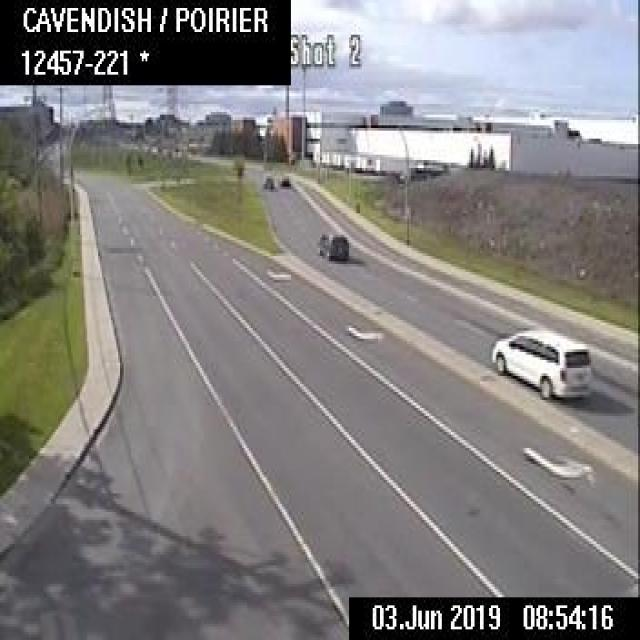vehicle: (489, 323, 595, 400), (316, 226, 349, 258), (262, 172, 274, 186), (279, 171, 289, 185)
